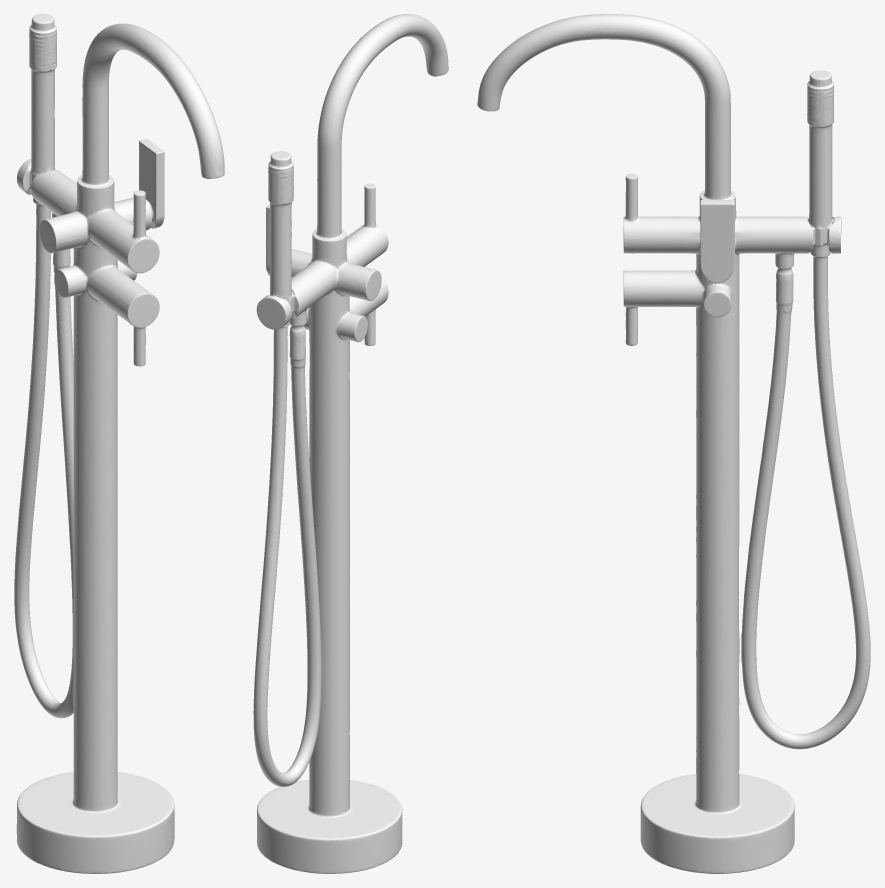
The model's file is joy-free-standing-bath-mixer.glb.
The picture shows the model from 3 angles, left to right: view 1: azimuth 30°, elevation 25°; view 2: azimuth 150°, elevation 25°; view 3: azimuth 270°, elevation 25°; orthographic projection. The views are drawn at different scales.
Visible parts, largest first — view 1: Mesh_0; view 2: Mesh_0; view 3: Mesh_0.
Boxes of the visible parts, left/top/right/bottom form: Mesh_0: left=14, top=14, right=224, bottom=873; Mesh_0: left=253, top=14, right=448, bottom=873; Mesh_0: left=477, top=14, right=870, bottom=873.
Size of the model in its own units: 0.1935 by 1.15 by 0.4938.
1 material, 1 textured.
